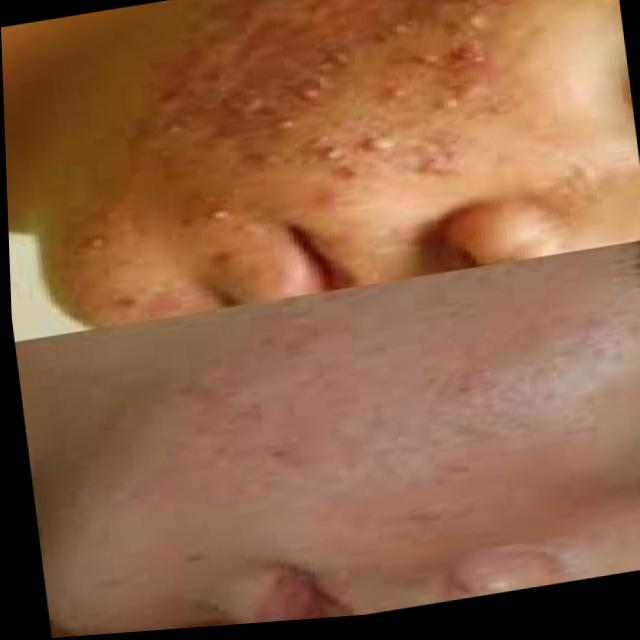Rosacea: (152, 0, 559, 218)
